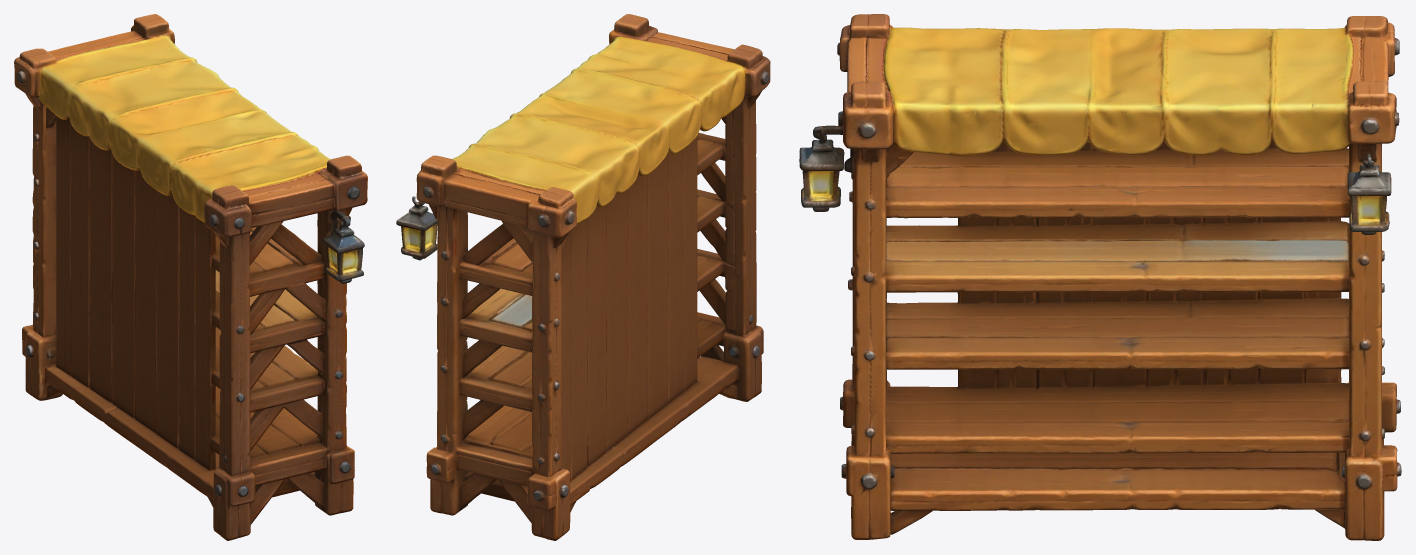
Rendered from stall-clean.glb.
3 renders of one model, left to right at view 1: azimuth 30°, elevation 25°; view 2: azimuth 150°, elevation 25°; view 3: azimuth 270°, elevation 25°, orthographic. The views are drawn at different scales.
Visible parts, largest first — view 1: tripo_node_d4d4036c-68b5-40bf-a925-52e68327022e; view 2: tripo_node_d4d4036c-68b5-40bf-a925-52e68327022e; view 3: tripo_node_d4d4036c-68b5-40bf-a925-52e68327022e.
Boxes of the visible parts, x1,y1,x2,y2 form: tripo_node_d4d4036c-68b5-40bf-a925-52e68327022e: [14, 14, 367, 540]; tripo_node_d4d4036c-68b5-40bf-a925-52e68327022e: [396, 14, 770, 540]; tripo_node_d4d4036c-68b5-40bf-a925-52e68327022e: [799, 14, 1401, 540].
Bounding box in the file's own units: 0.4214 × 0.8278 × 0.9999.
1 material, 1 textured.
